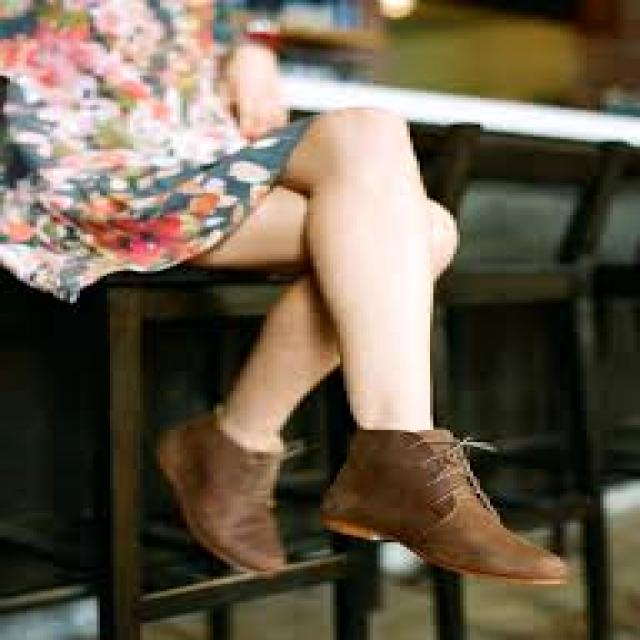dress: (0, 0, 313, 300)
foot-wear: (320, 430, 569, 583), (157, 413, 286, 574)
